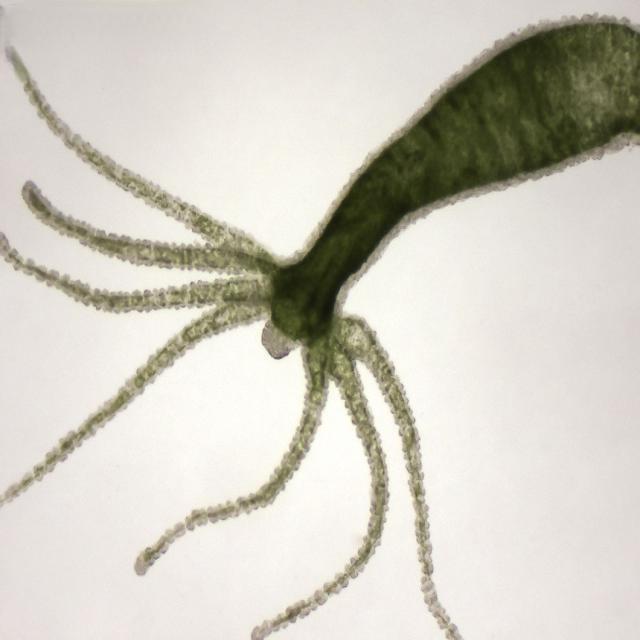Rod_bacteria: (1, 14, 637, 639)
